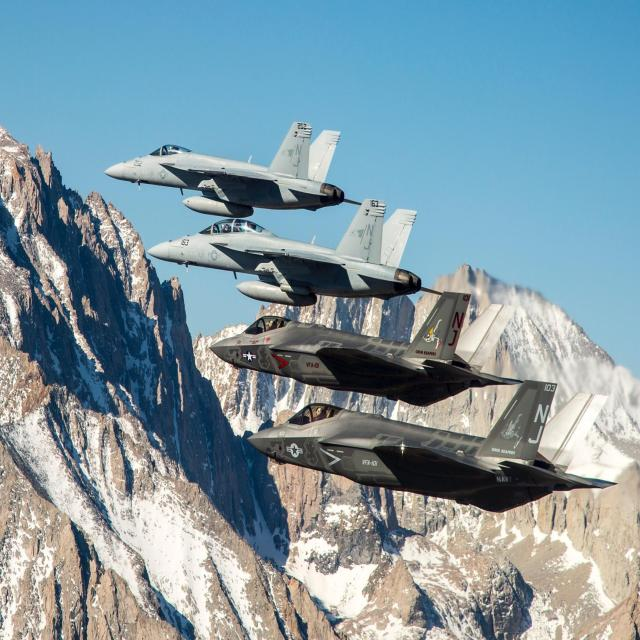MIL_Plane: (246, 379, 618, 513), (208, 291, 524, 407), (147, 198, 443, 306), (104, 136, 362, 204)
